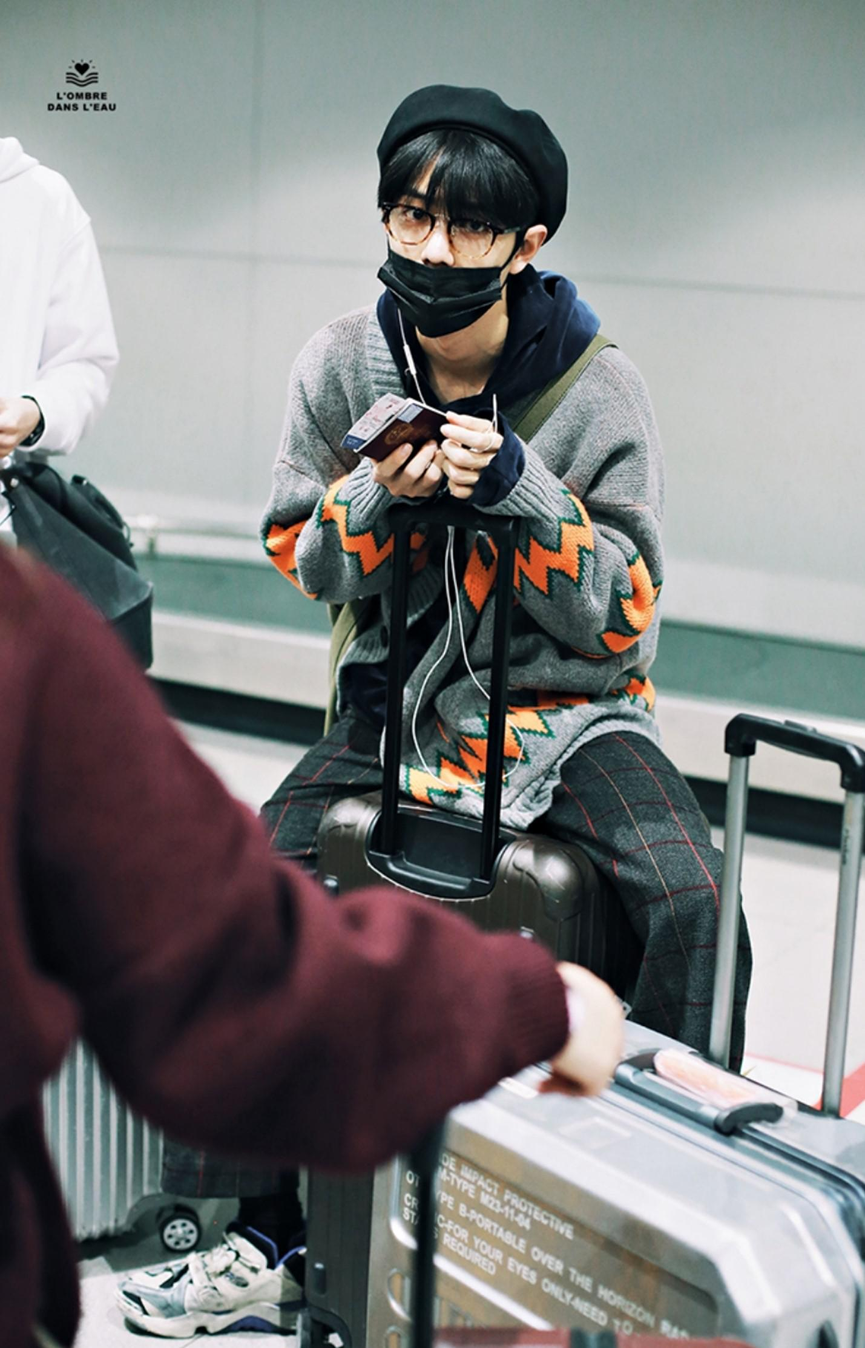WRONG: (388, 184, 512, 336)
